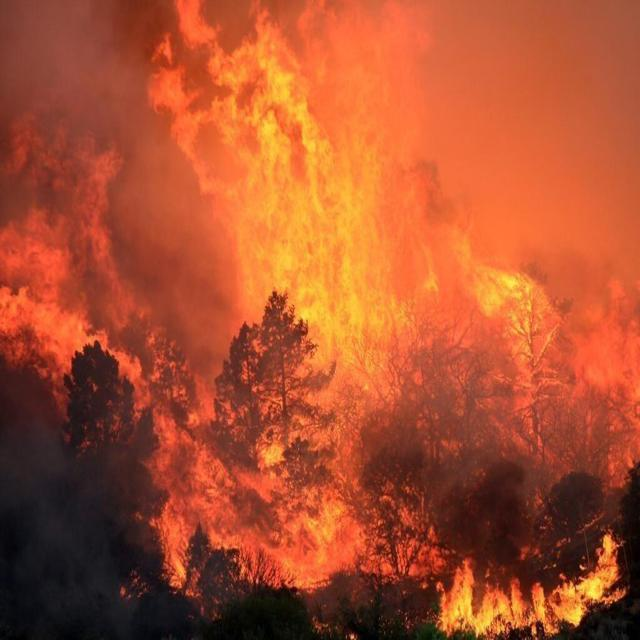Fire: (15, 188, 366, 575), (156, 21, 548, 363), (418, 543, 635, 633)
